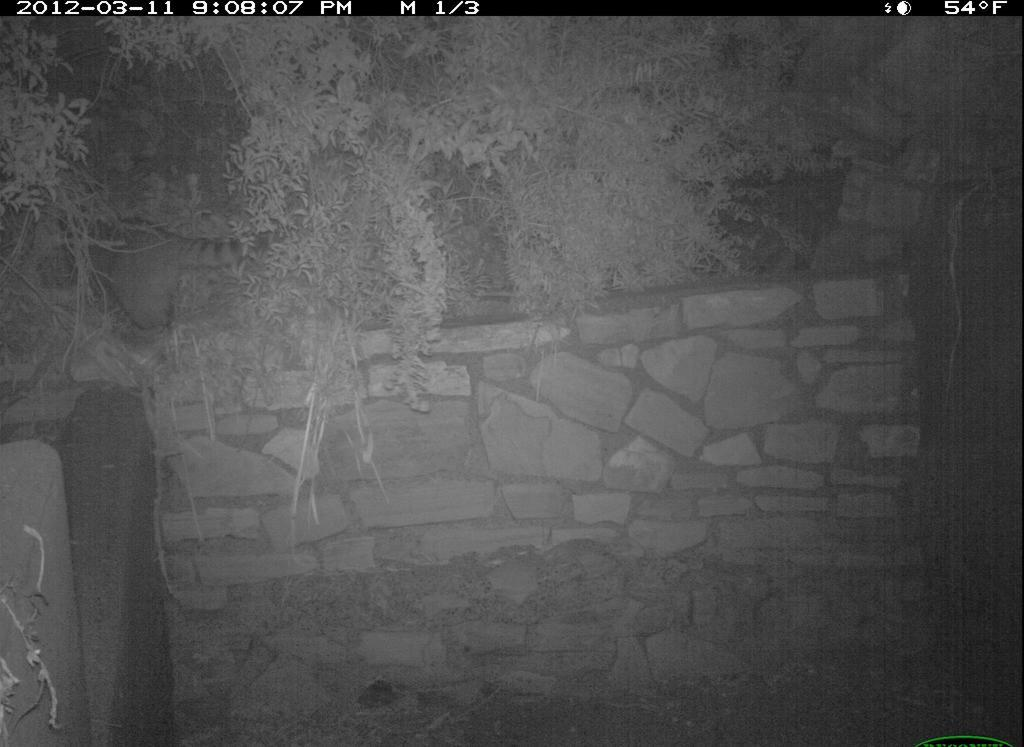raccoon: (35, 219, 283, 336)
